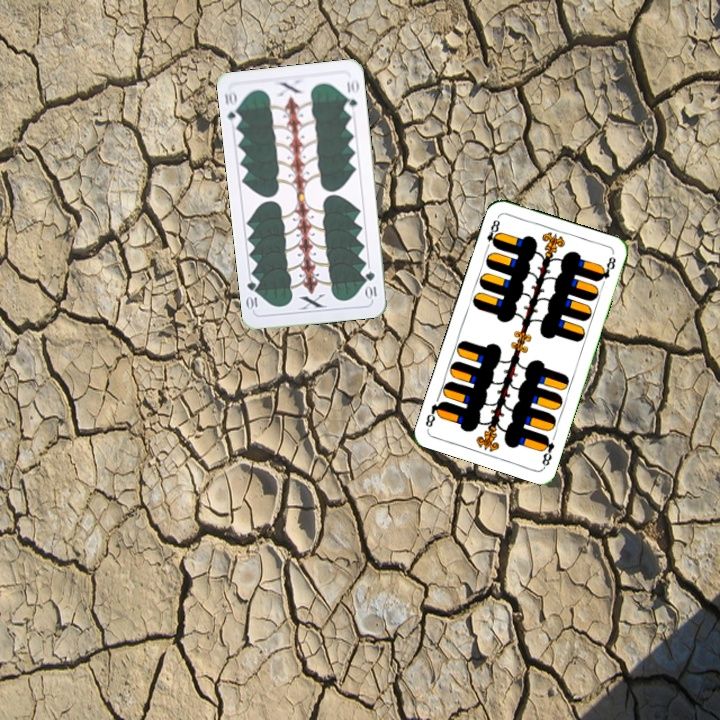E8: (482, 213, 503, 252), (537, 432, 557, 469)
G10: (220, 86, 243, 127), (362, 267, 379, 302)
